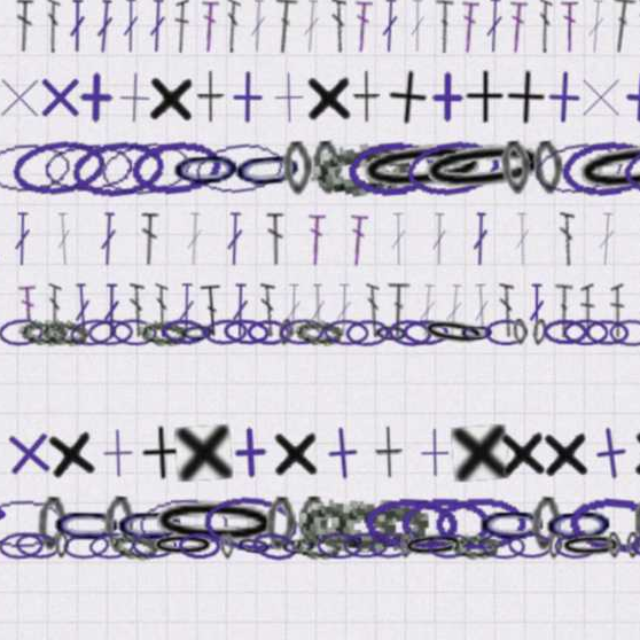chain: (507, 199, 629, 259), (373, 199, 495, 258), (319, 200, 440, 257), (139, 513, 258, 564), (279, 200, 371, 258), (362, 200, 449, 258), (472, 200, 558, 258), (552, 200, 638, 258), (95, 200, 182, 257), (19, 200, 105, 257), (177, 201, 263, 257), (71, 201, 156, 257), (268, 513, 357, 565), (123, 201, 207, 256), (498, 201, 581, 256), (505, 512, 589, 566), (187, 512, 271, 565), (297, 514, 385, 564), (312, 202, 395, 255), (46, 203, 129, 254), (328, 514, 410, 564), (130, 514, 211, 563), (390, 515, 471, 563), (0, 203, 76, 254), (360, 515, 440, 563), (210, 203, 279, 255), (0, 515, 71, 563), (482, 514, 550, 564), (157, 204, 225, 253), (54, 515, 120, 563), (109, 515, 175, 563), (425, 515, 491, 562), (377, 357, 436, 387), (360, 544, 418, 571), (446, 204, 476, 253), (474, 204, 504, 253), (282, 204, 311, 253), (100, 514, 129, 563), (498, 546, 555, 570), (473, 515, 501, 563), (142, 546, 199, 569), (257, 205, 284, 253), (43, 515, 70, 563), (242, 515, 269, 563), (229, 543, 271, 573), (106, 544, 150, 572), (271, 515, 297, 562), (45, 358, 89, 385), (71, 358, 113, 386), (564, 515, 589, 562), (593, 515, 618, 562), (332, 544, 373, 571), (23, 545, 65, 571), (65, 545, 107, 571), (27, 359, 70, 384), (267, 359, 310, 384), (348, 359, 389, 385), (88, 545, 129, 571), (9, 359, 50, 384), (205, 359, 246, 384), (9, 545, 50, 570), (132, 360, 174, 384), (266, 546, 308, 570), (404, 546, 446, 570), (108, 359, 148, 384), (151, 359, 191, 384), (188, 359, 228, 384), (254, 359, 294, 384), (429, 545, 469, 570), (453, 545, 493, 570), (87, 360, 128, 384), (293, 360, 333, 384), (362, 360, 402, 384), (383, 546, 423, 570), (561, 546, 601, 570), (215, 544, 250, 571), (226, 360, 265, 384), (312, 360, 351, 384), (521, 360, 560, 384), (542, 360, 581, 384), (494, 546, 533, 570), (502, 360, 542, 383), (310, 546, 350, 569), (484, 360, 523, 383), (126, 546, 165, 569), (287, 546, 326, 569), (433, 360, 471, 383), (166, 546, 204, 569), (167, 359, 200, 384), (336, 360, 369, 384), (587, 546, 620, 570), (255, 546, 287, 570), (411, 360, 443, 383), (474, 360, 489, 384), (253, 360, 267, 384), (202, 546, 216, 570), (488, 546, 502, 570), (458, 360, 471, 383), (591, 360, 604, 383), (359, 546, 372, 569), (540, 546, 553, 569), (580, 360, 592, 383), (59, 546, 71, 569), (557, 546, 569, 569)
double: (541, 80, 566, 129), (248, 81, 271, 129), (185, 329, 207, 377), (348, 329, 369, 376), (586, 81, 606, 129), (397, 329, 417, 377), (43, 19, 63, 66), (81, 19, 100, 67), (334, 19, 353, 67), (93, 81, 112, 129), (273, 81, 292, 129), (521, 81, 540, 129), (374, 329, 393, 377), (498, 19, 517, 66), (388, 81, 407, 128), (530, 267, 549, 314), (492, 329, 511, 376), (411, 81, 429, 129), (453, 81, 471, 129), (314, 267, 332, 315), (105, 19, 123, 66), (148, 19, 166, 66), (253, 19, 271, 66), (519, 19, 537, 66), (560, 19, 578, 66), (581, 19, 599, 66), (139, 81, 157, 128), (227, 81, 245, 128), (318, 81, 336, 128), (342, 81, 360, 128), (433, 81, 451, 128), (74, 329, 92, 376), (422, 329, 440, 376), (126, 19, 143, 66), (212, 19, 229, 66), (275, 19, 292, 66), (294, 19, 311, 66), (379, 19, 396, 66), (460, 19, 477, 66), (24, 81, 41, 128), (185, 81, 202, 128), (22, 267, 39, 314), (58, 267, 75, 314), (97, 267, 114, 314), (133, 267, 150, 314), (172, 267, 189, 314), (207, 267, 224, 314), (243, 267, 260, 314), (278, 267, 295, 314), (27, 329, 44, 376), (165, 329, 182, 376), (212, 329, 229, 376), (258, 329, 275, 376), (280, 329, 297, 376), (302, 329, 319, 376), (567, 329, 584, 376), (23, 19, 39, 66), (168, 19, 184, 66), (191, 19, 207, 66), (314, 19, 330, 66), (400, 19, 416, 66), (420, 19, 436, 66), (541, 19, 557, 66), (117, 81, 133, 128), (367, 81, 383, 128), (350, 267, 366, 314), (386, 267, 402, 314), (422, 267, 438, 314), (100, 329, 116, 376), (471, 329, 487, 376), (592, 329, 608, 376), (64, 19, 79, 66), (441, 19, 456, 66), (71, 81, 86, 128), (206, 81, 221, 128), (500, 81, 515, 128), (567, 81, 582, 128), (459, 267, 474, 314), (50, 81, 64, 128), (299, 81, 313, 128), (479, 81, 493, 128), (498, 267, 512, 314), (569, 267, 583, 314), (123, 329, 137, 376), (358, 19, 371, 66), (163, 81, 176, 128), (52, 329, 65, 376), (238, 329, 251, 376), (330, 329, 343, 376), (446, 329, 459, 376), (517, 329, 530, 376), (543, 329, 556, 376), (234, 19, 246, 66), (482, 19, 494, 66), (146, 329, 158, 376)
noise: (621, 113, 640, 141), (0, 525, 18, 535), (625, 542, 638, 555), (0, 299, 9, 313)
single: (518, 451, 570, 503), (163, 452, 214, 502), (404, 452, 455, 502), (49, 451, 98, 503), (581, 142, 631, 192), (11, 452, 61, 502), (285, 452, 335, 502), (478, 142, 527, 191), (545, 142, 594, 191), (205, 452, 254, 501), (71, 143, 119, 191), (104, 143, 152, 191), (239, 143, 287, 191), (90, 453, 138, 501), (444, 452, 490, 501), (4, 143, 51, 190), (203, 143, 250, 190), (377, 143, 424, 190), (511, 143, 558, 190), (366, 453, 413, 500), (40, 143, 86, 190), (138, 143, 183, 191), (482, 453, 527, 501), (561, 453, 606, 500), (276, 143, 320, 190), (247, 453, 291, 500), (346, 142, 386, 192), (450, 143, 488, 191), (132, 453, 170, 501), (415, 143, 451, 190), (338, 453, 363, 500), (183, 143, 207, 190), (319, 143, 343, 190)
